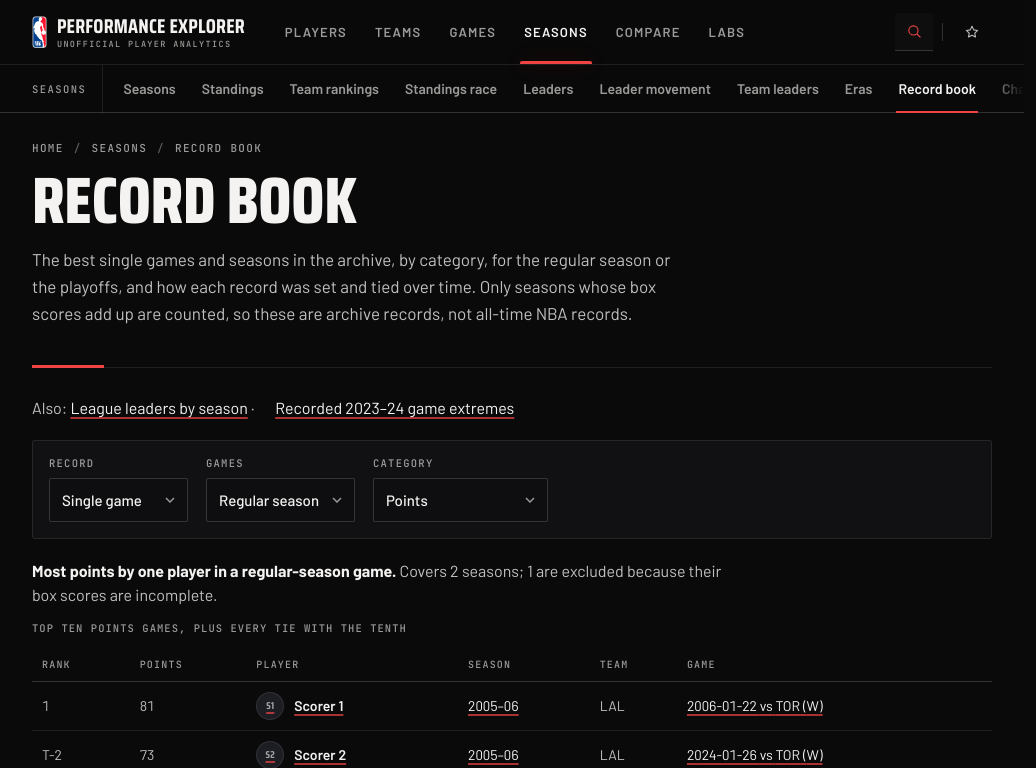
Test: record book and team rankings › shows ties, links each game and lists excluded seasons
The width and height of the screenshot is (1036, 768).
Select "Single season" in the dropdown labelled "Record". click: (118, 500)
box: [49, 478, 188, 522]
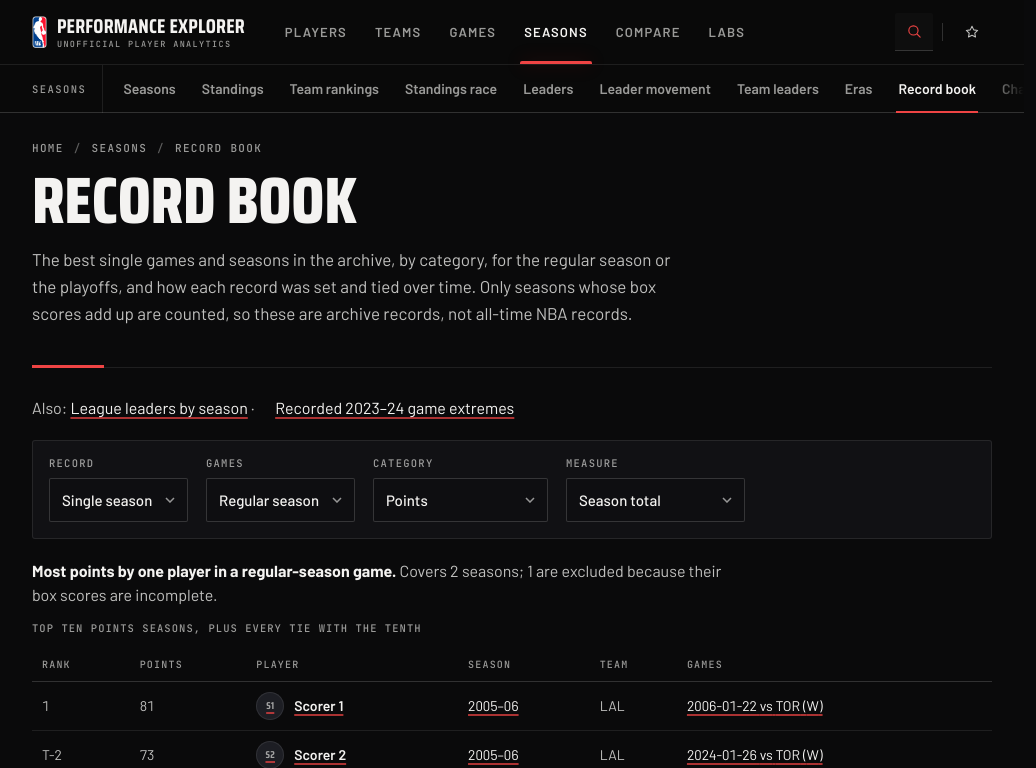
Now the dropdown labelled "Measure" is shown, box [566, 478, 745, 522]
